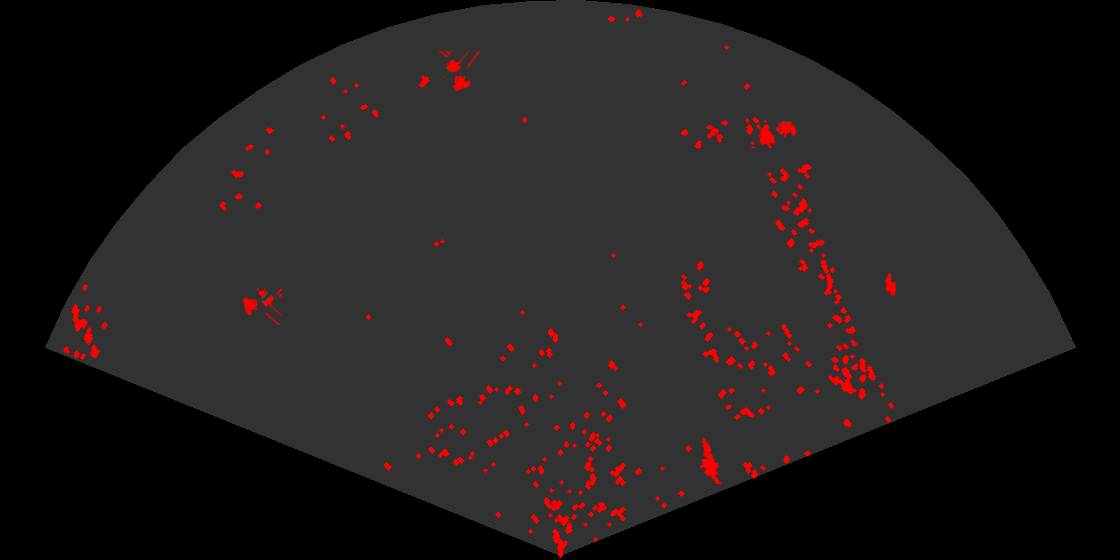AUV: (884, 271, 898, 297)
cage: (437, 51, 482, 93), (241, 286, 282, 325), (751, 118, 798, 148)
frogman: (698, 436, 724, 484)
